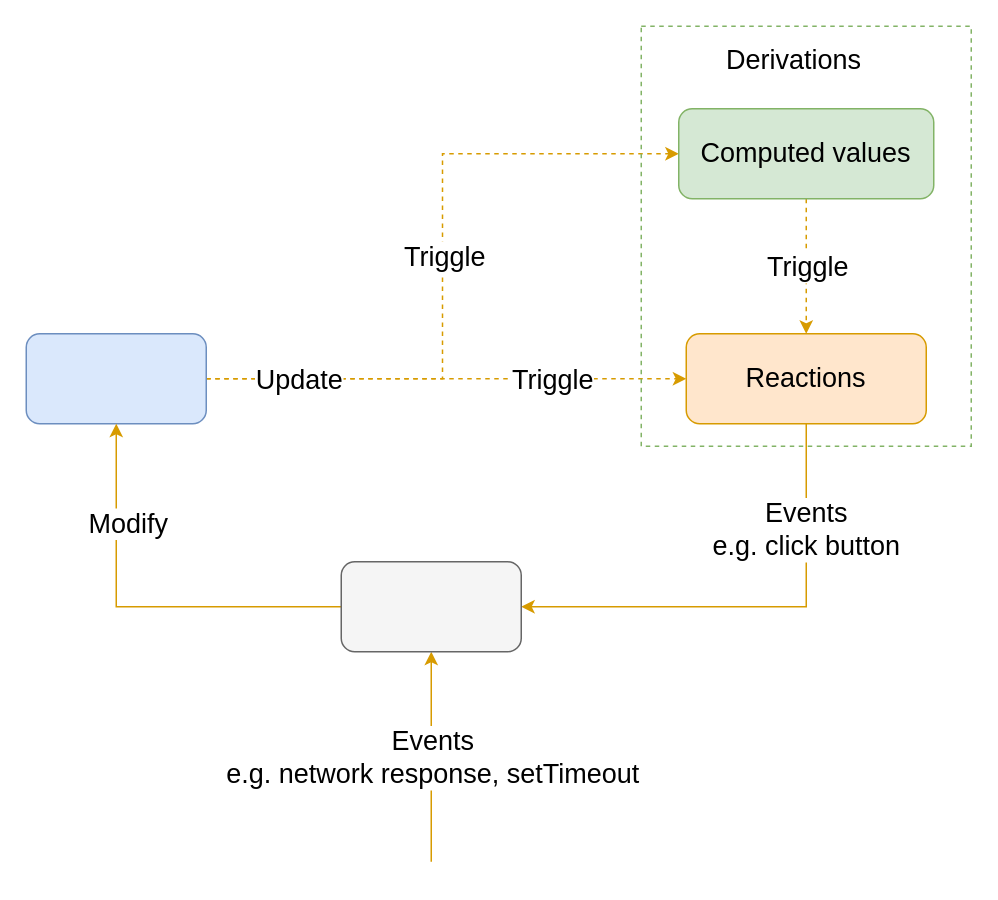
Some shapes in this 998 by 900 pixel diagram are drawn without their labels. The shapes that lost their labels are listed below. From the top down, each one's centre as x and y in pixels, then its label:
the point at 115,378: State
the point at 430,606: Actions
